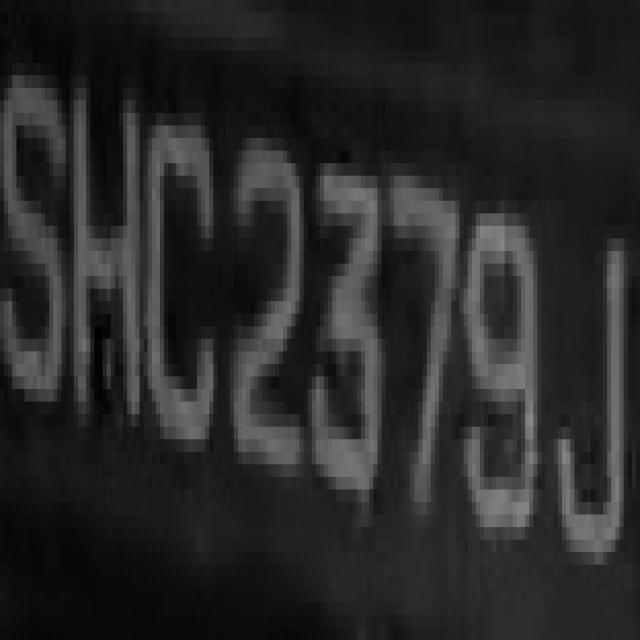2: (226, 100, 304, 502)
3: (300, 113, 386, 527)
7: (382, 138, 464, 552)
9: (460, 163, 546, 515)
C: (144, 76, 225, 490)
H: (70, 51, 148, 490)
J: (550, 176, 632, 577)
S: (8, 0, 74, 414)
